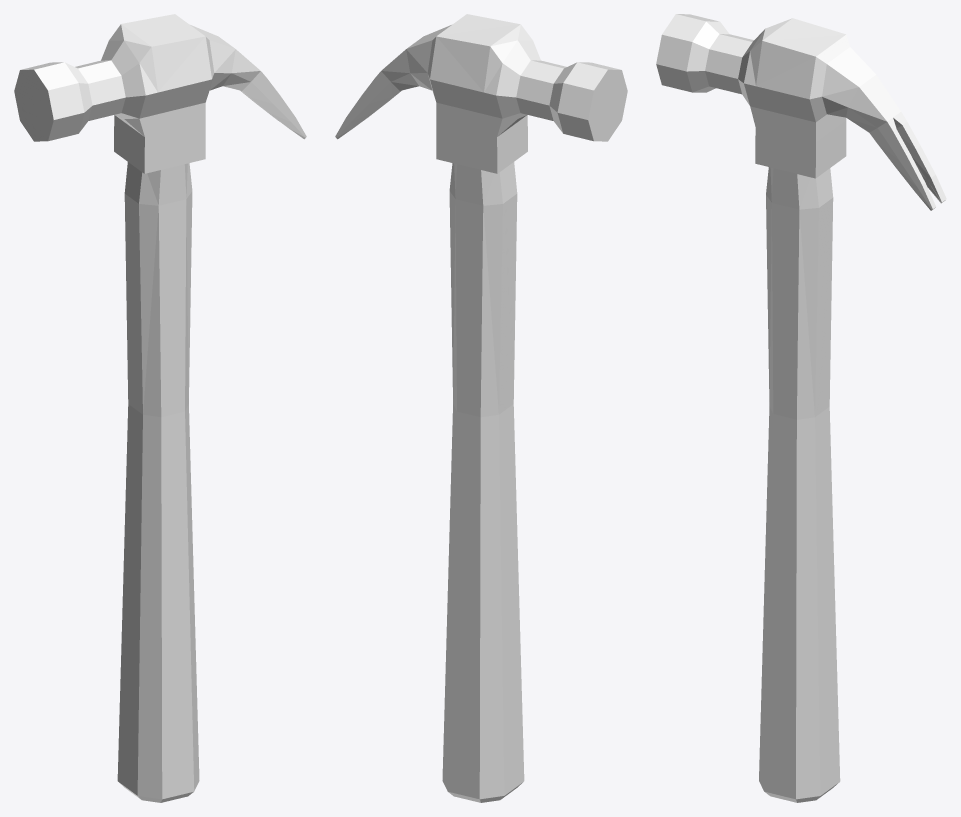
Rendered from Tool_Hammer_01.glb.
3 views of the same model, side by side, from view 1: azimuth 30°, elevation 25°; view 2: azimuth 150°, elevation 25°; view 3: azimuth 330°, elevation 25° (orthographic).
Visible parts, largest first — view 1: Tool_Hammer_01; view 2: Tool_Hammer_01; view 3: Tool_Hammer_01.
Part boxes in pixels (<box>): Tool_Hammer_01: <box>14,14,306,802</box>; Tool_Hammer_01: <box>335,14,627,802</box>; Tool_Hammer_01: <box>656,14,946,802</box>.
Size of the model in its own units: 0.1248 by 0.3402 by 0.0352.
Materials: 1 (1 with a texture image).
